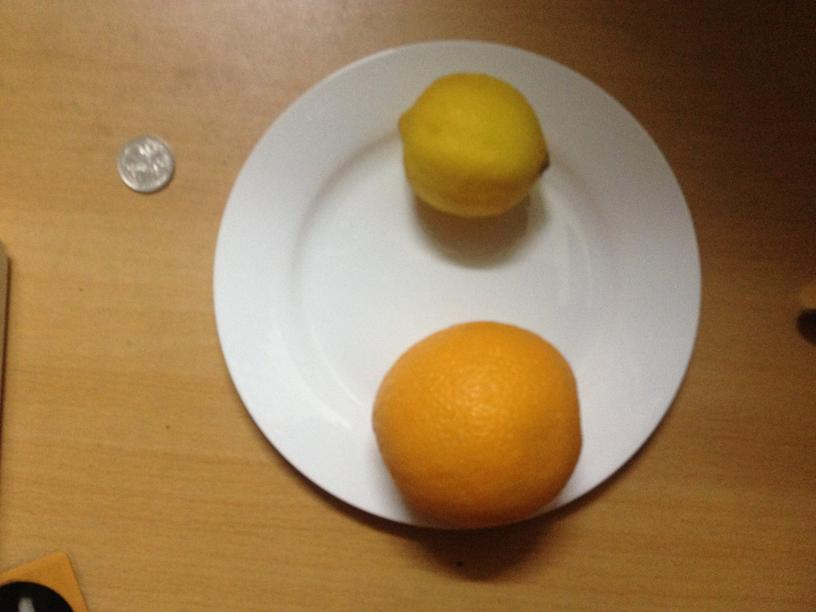coin: (115, 134, 175, 192)
lemon: (395, 71, 550, 220)
orange: (370, 321, 581, 527)
